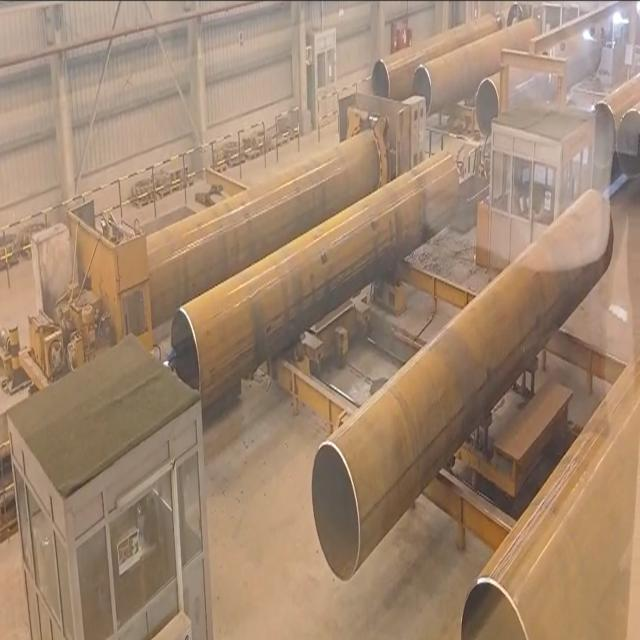warningzone: (268, 257, 479, 419)
